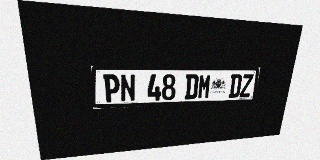4: (147, 74, 162, 101)
8: (162, 74, 176, 100)
D: (184, 74, 199, 99), (228, 74, 242, 98)
M: (197, 74, 212, 99)
N: (120, 74, 135, 102)
P: (103, 74, 120, 103)
Z: (239, 74, 254, 97)
